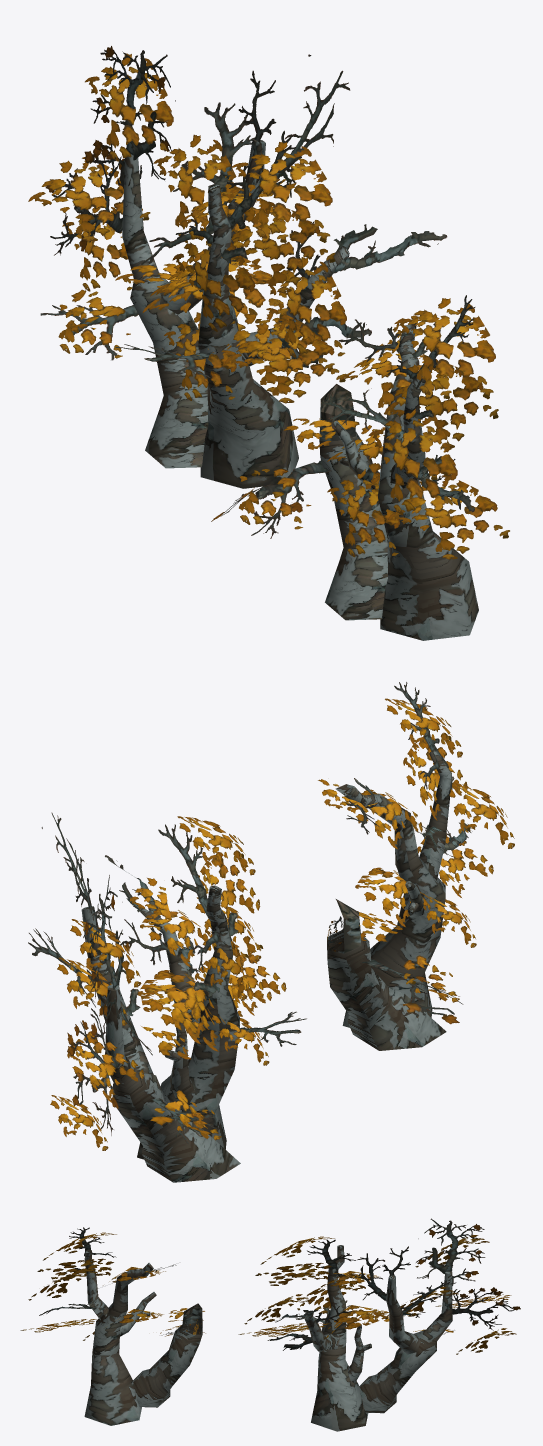
Rendered from 2_Plant_HaShu_01.FBX.
The picture shows the model from 3 angles, top to bottom: view 1: azimuth 30°, elevation 25°; view 2: azimuth 150°, elevation 25°; view 3: azimuth 270°, elevation 25°; orthographic projection. The views are drawn at different scales.
Parts seen in each view (by area): view 1: 2_Plant_HaShuYe_01_02, 2_Plant_HaShu_01_01, 2_Plant_HaShu_01_02, 2_Plant_HaShu_01_04, 2_Plant_HaShuYe_01_04, 2_Plant_HaShuYe_01_01, 2_Plant_HaShu_01_03, 2_Plant_HaShuYe_01_03; view 2: 2_Plant_HaShu_01_01, 2_Plant_HaShu_01_02, 2_Plant_HaShuYe_01_02, 2_Plant_HaShu_01_04, 2_Plant_HaShuYe_01_04, 2_Plant_HaShu_01_03, 2_Plant_HaShuYe_01_01, 2_Plant_HaShuYe_01_03; view 3: 2_Plant_HaShu_01_01, 2_Plant_HaShu_01_02, 2_Plant_HaShu_01_04, 2_Plant_HaShuYe_01_02, 2_Plant_HaShu_01_03, 2_Plant_HaShuYe_01_04, 2_Plant_HaShuYe_01_01.
Boxes of the visible parts, x1,y1,x2,y2 form: 2_Plant_HaShuYe_01_02: [115, 142, 346, 403]; 2_Plant_HaShu_01_01: [40, 46, 350, 468]; 2_Plant_HaShu_01_02: [116, 130, 447, 488]; 2_Plant_HaShu_01_04: [320, 295, 478, 640]; 2_Plant_HaShuYe_01_04: [327, 298, 509, 559]; 2_Plant_HaShuYe_01_01: [28, 53, 238, 357]; 2_Plant_HaShu_01_03: [211, 384, 387, 620]; 2_Plant_HaShuYe_01_03: [239, 418, 359, 529]; 2_Plant_HaShu_01_01: [28, 812, 240, 1182]; 2_Plant_HaShu_01_02: [105, 824, 306, 1159]; 2_Plant_HaShuYe_01_02: [130, 816, 286, 1065]; 2_Plant_HaShu_01_04: [335, 682, 472, 1027]; 2_Plant_HaShuYe_01_04: [318, 698, 514, 947]; 2_Plant_HaShu_01_03: [327, 899, 463, 1050]; 2_Plant_HaShuYe_01_01: [50, 919, 221, 1150]; 2_Plant_HaShuYe_01_03: [357, 911, 459, 1002]; 2_Plant_HaShu_01_01: [352, 1218, 520, 1413]; 2_Plant_HaShu_01_02: [267, 1239, 371, 1431]; 2_Plant_HaShu_01_04: [39, 1227, 176, 1425]; 2_Plant_HaShuYe_01_02: [238, 1236, 415, 1341]; 2_Plant_HaShu_01_03: [133, 1303, 205, 1407]; 2_Plant_HaShuYe_01_04: [20, 1232, 165, 1340]; 2_Plant_HaShuYe_01_01: [384, 1235, 516, 1354].
Size of the model in its own units: 547 by 569 by 1311.
Materials: 2 (2 with a texture image).
